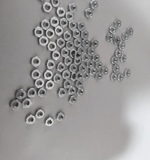nut: (38, 36, 49, 47), (15, 90, 27, 100), (9, 100, 21, 110), (42, 2, 52, 13), (56, 7, 66, 18), (59, 18, 69, 29), (47, 41, 57, 52), (25, 115, 36, 125), (50, 16, 59, 28), (34, 27, 44, 37), (56, 38, 66, 48), (31, 57, 41, 67), (31, 70, 41, 80), (27, 88, 37, 98), (22, 98, 32, 108), (63, 80, 73, 90), (68, 95, 78, 105), (63, 31, 72, 42), (68, 4, 78, 13), (90, 0, 99, 10), (85, 8, 94, 18), (41, 20, 50, 30), (46, 29, 55, 39), (77, 21, 86, 31), (61, 48, 70, 58), (63, 57, 73, 66), (62, 70, 71, 80), (46, 60, 56, 69), (43, 71, 53, 80), (35, 79, 45, 88), (45, 81, 55, 90), (37, 88, 47, 97), (56, 113, 66, 122), (44, 118, 54, 127), (62, 71, 72, 80), (77, 87, 86, 97), (58, 88, 67, 98), (82, 39, 91, 48), (66, 41, 75, 50), (87, 47, 96, 56), (95, 72, 104, 81), (36, 110, 45, 119), (53, 74, 62, 83), (69, 64, 78, 73), (75, 80, 84, 89), (68, 87, 77, 96), (55, 26, 63, 36), (69, 21, 77, 31), (52, 51, 60, 61), (71, 72, 79, 82), (66, 13, 74, 22), (91, 39, 99, 48), (86, 60, 95, 68), (89, 67, 97, 76), (79, 64, 87, 73), (114, 19, 122, 28), (106, 34, 115, 42), (115, 49, 123, 58), (112, 65, 121, 73), (124, 69, 132, 78), (110, 73, 118, 82), (57, 63, 65, 72), (76, 72, 84, 81), (73, 29, 80, 39), (74, 39, 82, 47), (81, 31, 89, 39), (78, 47, 86, 55), (109, 26, 117, 34), (120, 55, 128, 63), (118, 74, 126, 82), (51, 0, 60, 7), (70, 49, 77, 58), (82, 54, 89, 63), (96, 61, 103, 70), (102, 66, 109, 75), (83, 72, 90, 81), (92, 55, 100, 62), (75, 52, 82, 60), (74, 58, 82, 65), (127, 28, 134, 36), (122, 34, 129, 42), (119, 43, 126, 50), (111, 58, 119, 64)
